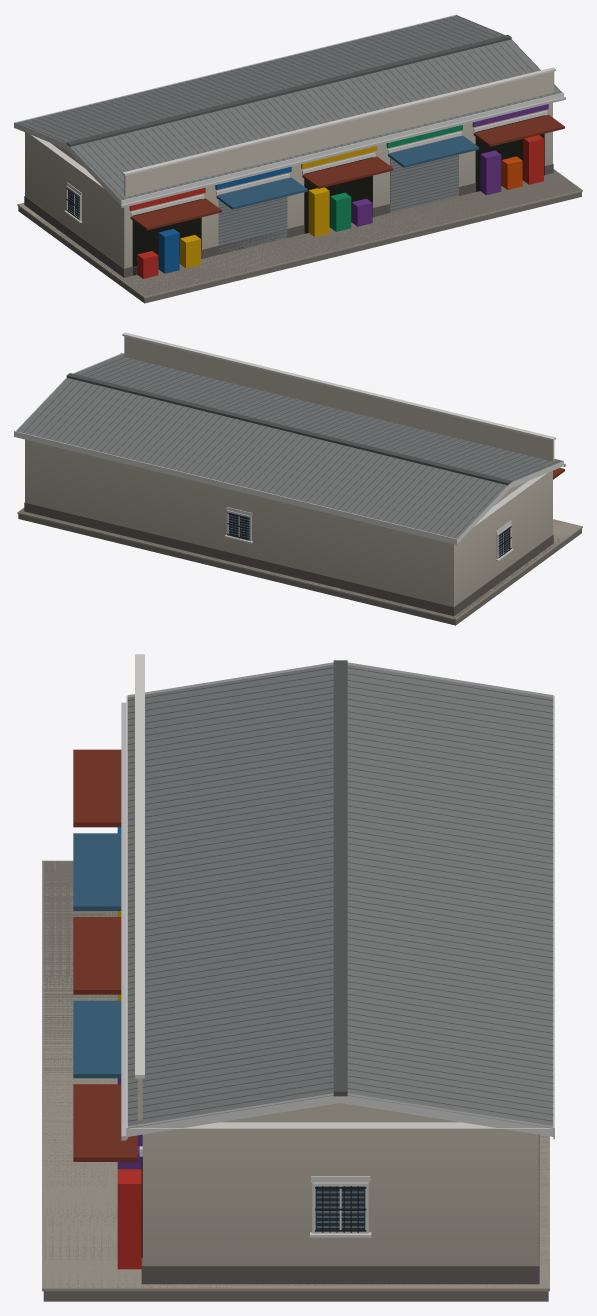
File: ns_shops1.glb
The picture shows the model from 3 angles, top to bottom: view 1: azimuth 30°, elevation 25°; view 2: azimuth 150°, elevation 25°; view 3: azimuth 270°, elevation 25°; orthographic projection. The views are drawn at different scales.
Parts seen in each view (by area): view 1: ns_shops1; view 2: ns_shops1; view 3: ns_shops1.
Boxes of the visible parts, box(x1,y1,x2,y2) form: ns_shops1: box(14, 14, 582, 303); ns_shops1: box(14, 332, 582, 625); ns_shops1: box(42, 654, 554, 1301).
Size of the model in its own units: 20.72 by 4.98 by 10.36.
